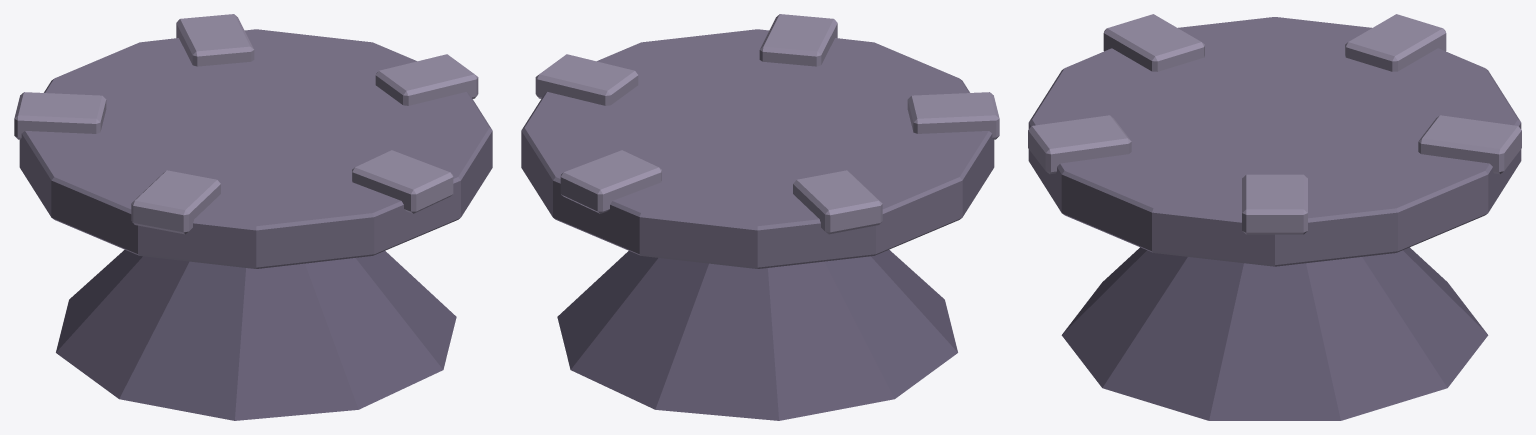
Rendered from ember_cinder_island.glb.
The picture shows the model from 3 angles, left to right: view 1: azimuth 30°, elevation 25°; view 2: azimuth 150°, elevation 25°; view 3: azimuth 270°, elevation 25°; orthographic projection. The views are drawn at different scales.
Parts seen in each view (by area): view 1: ember_cinder_island.001; view 2: ember_cinder_island.001; view 3: ember_cinder_island.001.
Boxes of the visible parts, x1=… form: ember_cinder_island.001: x1=14, y1=14, x2=492, y2=420; ember_cinder_island.001: x1=521, y1=14, x2=999, y2=420; ember_cinder_island.001: x1=1028, y1=14, x2=1521, y2=420.
Bounding box in the file's own units: 6.05 × 3.09 × 6.02.
